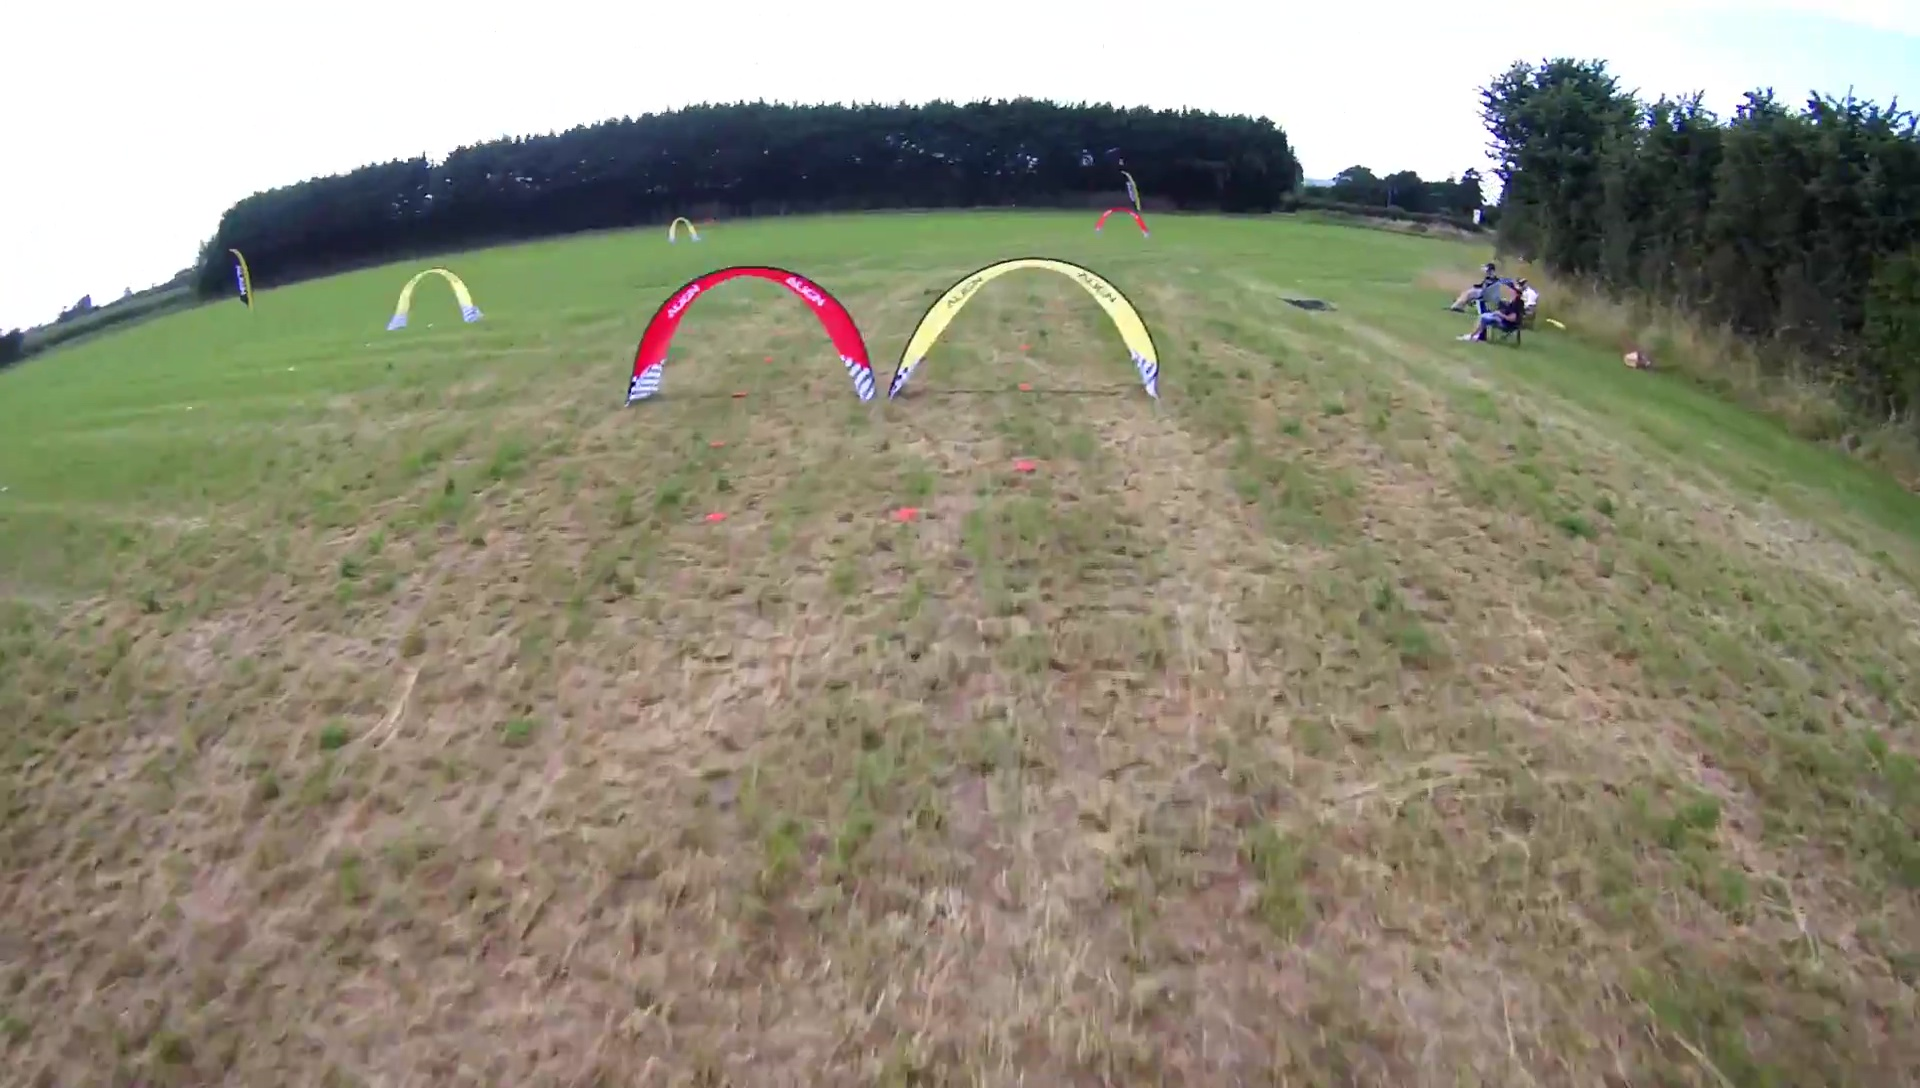gate: (887, 256, 1162, 402), (622, 262, 880, 408), (385, 266, 488, 334), (1091, 204, 1154, 243), (665, 216, 702, 243)
